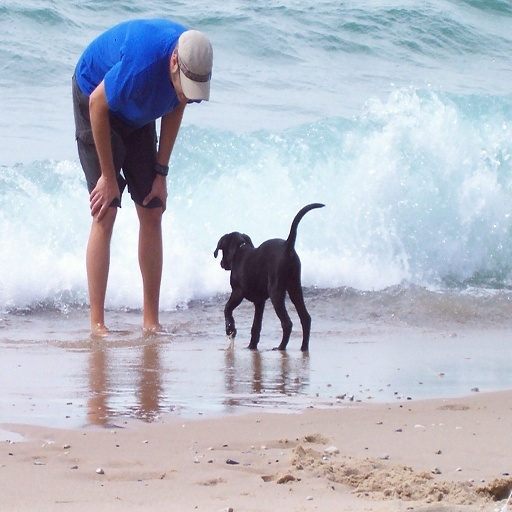hand: (77, 163, 119, 220), (141, 174, 167, 213)
